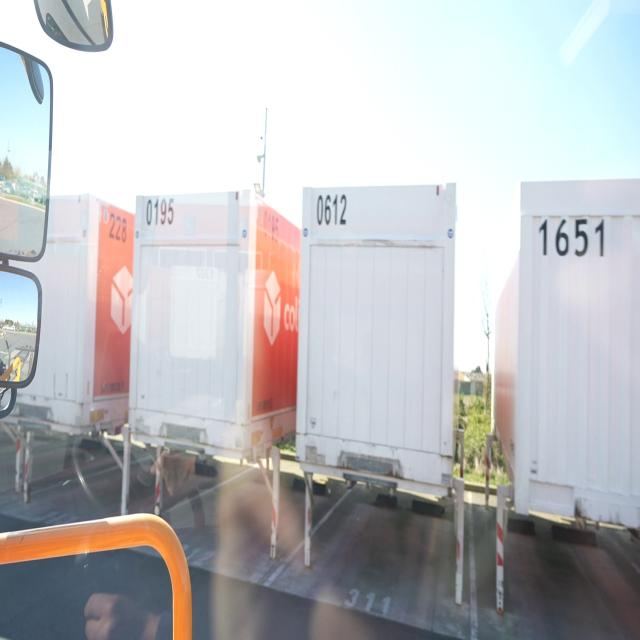Code: (536, 210, 606, 266), (314, 189, 356, 237), (142, 195, 178, 232), (106, 206, 128, 248)
